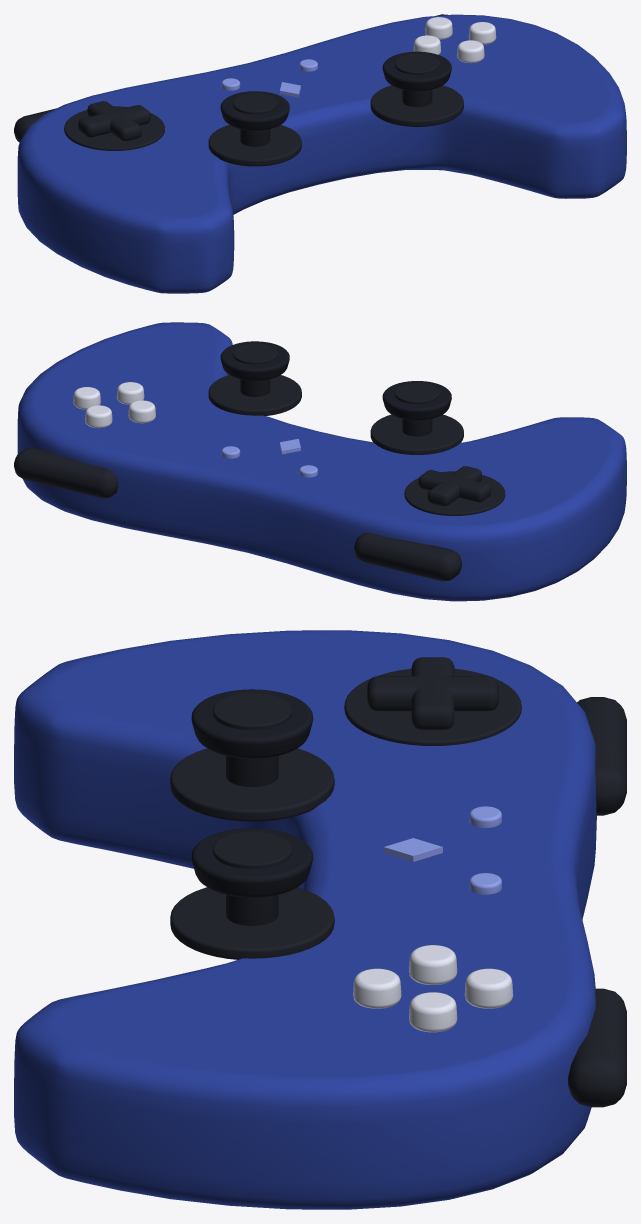
Rendered from controller.glb.
3 renders of one model, top to bottom at view 1: azimuth 30°, elevation 25°; view 2: azimuth 150°, elevation 25°; view 3: azimuth 270°, elevation 25°, orthographic. The views are drawn at different scales.
Visible parts, largest first — view 1: Pad2_Body, Pad2_StickRing1, Pad2_StickRing0, Pad2_DpadBase, Pad2_StickCap0, Pad2_StickCap1, Pad2_DpadH, Pad2_DpadV, Pad2_StickDent0, Pad2_StickDent1, Pad2_Btn2, Pad2_Btn0 (+5 smaller); view 2: Pad2_Body, Pad2_Bumper0, Pad2_Bumper1, Pad2_StickRing1, Pad2_StickRing0, Pad2_DpadBase, Pad2_StickCap1, Pad2_StickCap0, Pad2_DpadH, Pad2_DpadV, Pad2_StickDent1, Pad2_StickDent0 (+6 smaller); view 3: Pad2_Body, Pad2_StickRing0, Pad2_StickRing1, Pad2_DpadBase, Pad2_Bumper1, Pad2_StickCap0, Pad2_StickCap1, Pad2_Bumper0, Pad2_DpadV, Pad2_DpadH, Pad2_StickDent0, Pad2_StickDent1 (+7 smaller).
Boxes of the visible parts, x1,y1,x2,y2 form: Pad2_Body: (17, 14, 626, 293); Pad2_StickRing1: (370, 85, 463, 126); Pad2_StickRing0: (208, 125, 301, 166); Pad2_DpadBase: (64, 106, 164, 150); Pad2_StickCap0: (220, 91, 289, 130); Pad2_StickCap1: (382, 51, 451, 91); Pad2_DpadH: (78, 105, 150, 137); Pad2_DpadV: (87, 101, 141, 141); Pad2_StickDent0: (232, 93, 277, 114); Pad2_StickDent1: (395, 53, 439, 74); Pad2_Btn2: (457, 40, 484, 63); Pad2_Btn0: (425, 17, 452, 39); Pad2_Body: (17, 322, 626, 601); Pad2_Bumper0: (354, 532, 461, 581); Pad2_Bumper1: (14, 448, 118, 498); Pad2_StickRing1: (208, 375, 301, 415); Pad2_StickRing0: (370, 414, 463, 454); Pad2_DpadBase: (404, 471, 505, 515); Pad2_StickCap1: (220, 341, 289, 380); Pad2_StickCap0: (382, 381, 451, 420); Pad2_DpadH: (418, 470, 491, 502); Pad2_DpadV: (427, 466, 481, 506); Pad2_StickDent1: (232, 343, 277, 364); Pad2_StickDent0: (395, 383, 439, 403); Pad2_Body: (14, 630, 596, 1209); Pad2_StickRing0: (170, 748, 334, 821); Pad2_StickRing1: (170, 887, 334, 959); Pad2_DpadBase: (344, 668, 521, 745); Pad2_Bumper1: (568, 988, 626, 1107); Pad2_StickCap0: (191, 689, 313, 758); Pad2_StickCap1: (191, 828, 313, 897); Pad2_Bumper0: (577, 697, 626, 815); Pad2_DpadV: (367, 676, 498, 711); Pad2_DpadH: (411, 657, 454, 729); Pad2_StickDent0: (213, 693, 291, 730); Pad2_StickDent1: (213, 832, 291, 868).
Bounding box in the file's own units: 3.37 × 0.695 × 1.87.
